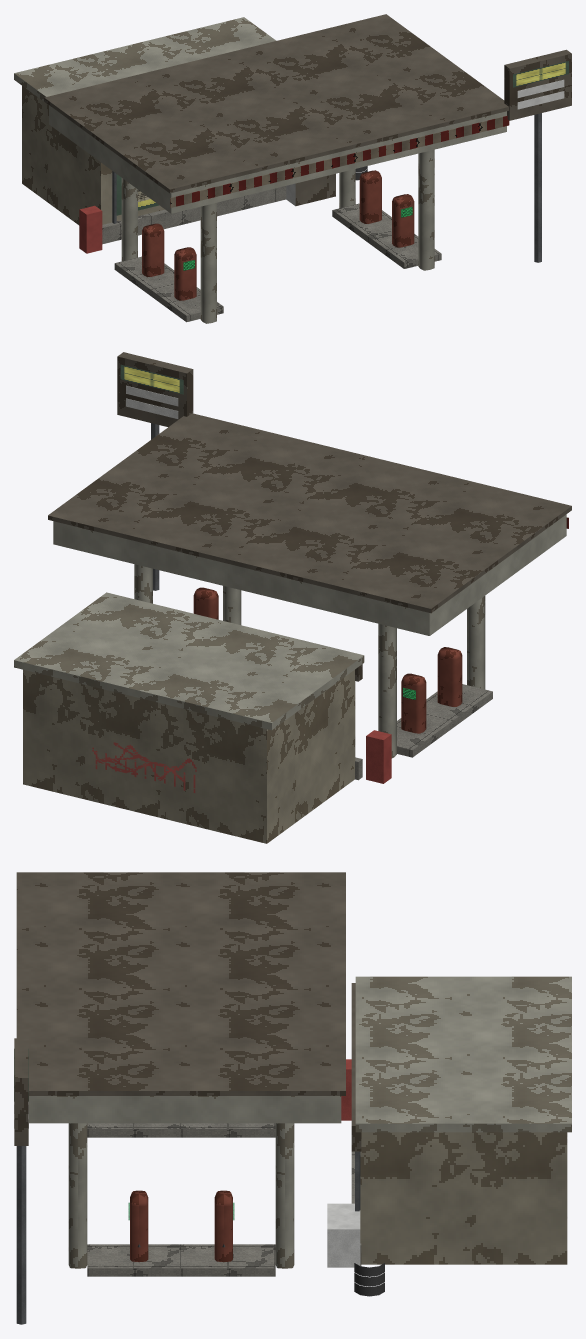
File: town_gas_station.glb
The picture shows the model from 3 angles, top to bottom: view 1: azimuth 30°, elevation 25°; view 2: azimuth 150°, elevation 25°; view 3: azimuth 270°, elevation 25°; orthographic projection. The views are drawn at different scales.
Parts seen in each view (by area): view 1: detail, shell-col; view 2: detail, shell-col; view 3: detail, shell-col.
Boxes of the visible parts, x1=… form: detail: x1=14, y1=14, x2=571, y2=270; shell-col: x1=22, y1=86, x2=441, y2=323; detail: x1=14, y1=352, x2=571, y2=792; shell-col: x1=23, y1=564, x2=492, y2=843; detail: x1=14, y1=872, x2=571, y2=1324; shell-col: x1=68, y1=1123, x2=567, y2=1276.
Size of what is drawn, in the model's own units: 12.9 by 6.2 by 11.86.
Materials: 17 (17 with a texture image).
